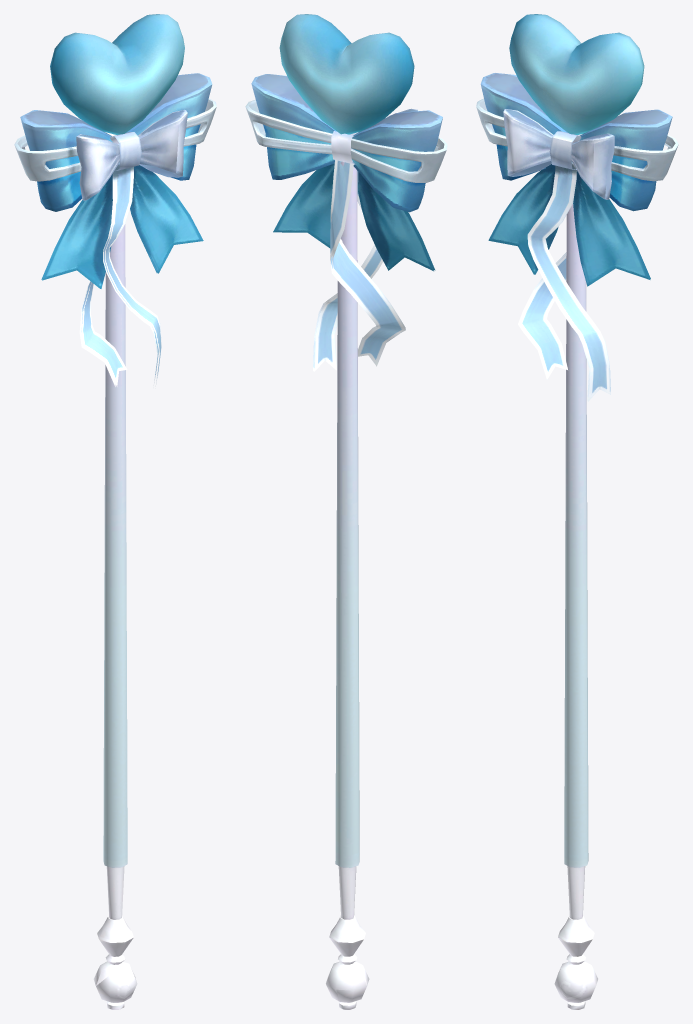
Rendered from joseph-cinnamoroll.glb.
The picture shows the model from 3 angles, left to right: view 1: azimuth 30°, elevation 25°; view 2: azimuth 150°, elevation 25°; view 3: azimuth 330°, elevation 25°; orthographic projection.
Parts seen in each view (by area): view 1: 约瑟夫-大耳狗_mesh; view 2: 约瑟夫-大耳狗_mesh; view 3: 约瑟夫-大耳狗_mesh.
Boxes of the visible parts, bbox=[...] form: 约瑟夫-大耳狗_mesh: bbox=[14, 14, 216, 1009]; 约瑟夫-大耳狗_mesh: bbox=[245, 14, 447, 1009]; 约瑟夫-大耳狗_mesh: bbox=[476, 14, 678, 1009].
Size of the model in its own units: 0.33 by 1.56 by 0.1142.
1 material, 1 textured.
